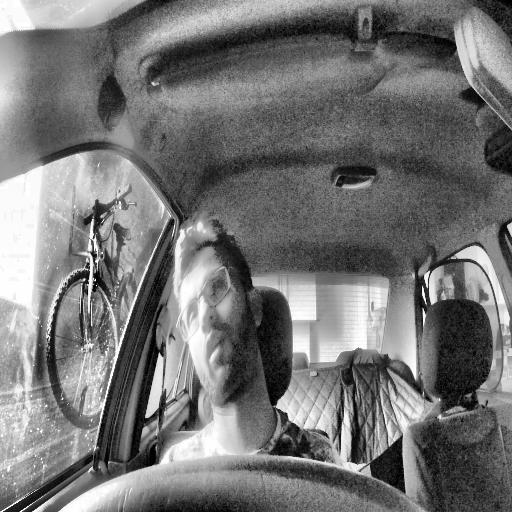drowsy: (173, 214, 263, 410)
